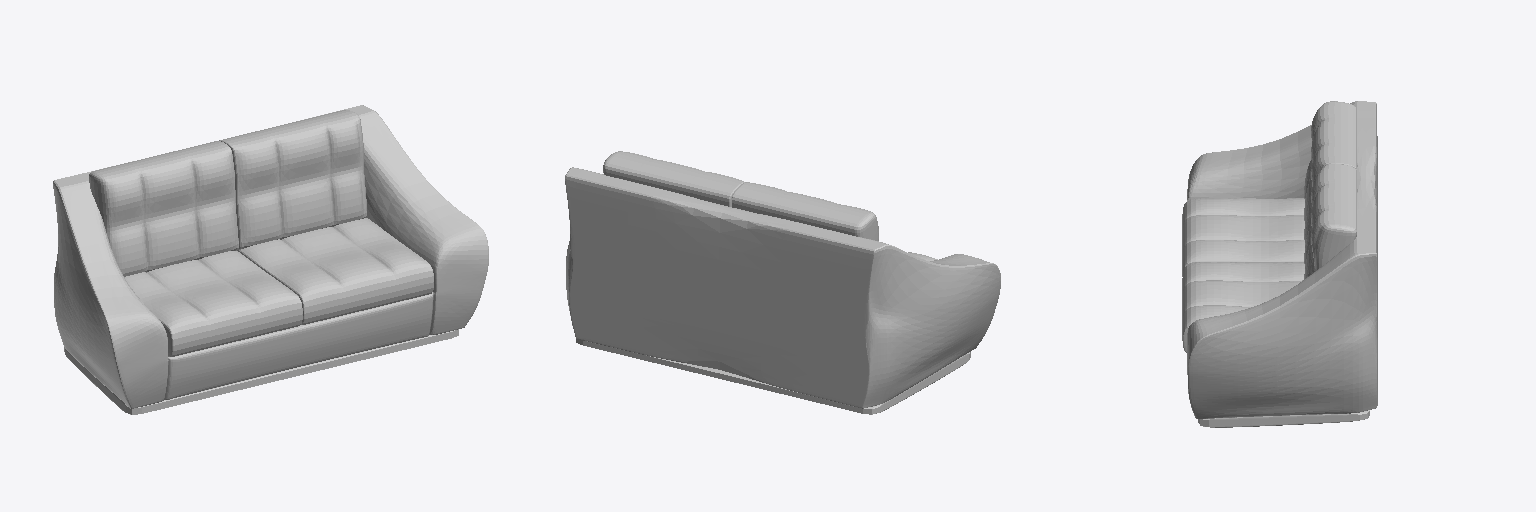
Rendered from zen.obj.
3 views of the same model, side by side, from view 1: azimuth 30°, elevation 25°; view 2: azimuth 150°, elevation 25°; view 3: azimuth 270°, elevation 25° (orthographic).
Parts seen in each view (by area): view 1: polySurface6; view 2: polySurface6; view 3: polySurface6.
Part boxes in pixels (left/top/right/bottom): polySurface6: left=53, top=105, right=488, bottom=414; polySurface6: left=565, top=151, right=1000, bottom=414; polySurface6: left=1182, top=101, right=1377, bottom=427.
Bounding box in the file's own units: 5.74 × 2.68 × 2.57.